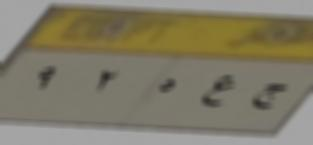2: (95, 67, 120, 96)
9: (32, 64, 58, 96)
ain: (196, 72, 236, 115)
haa: (156, 73, 177, 99)
jeem: (248, 76, 286, 114)
